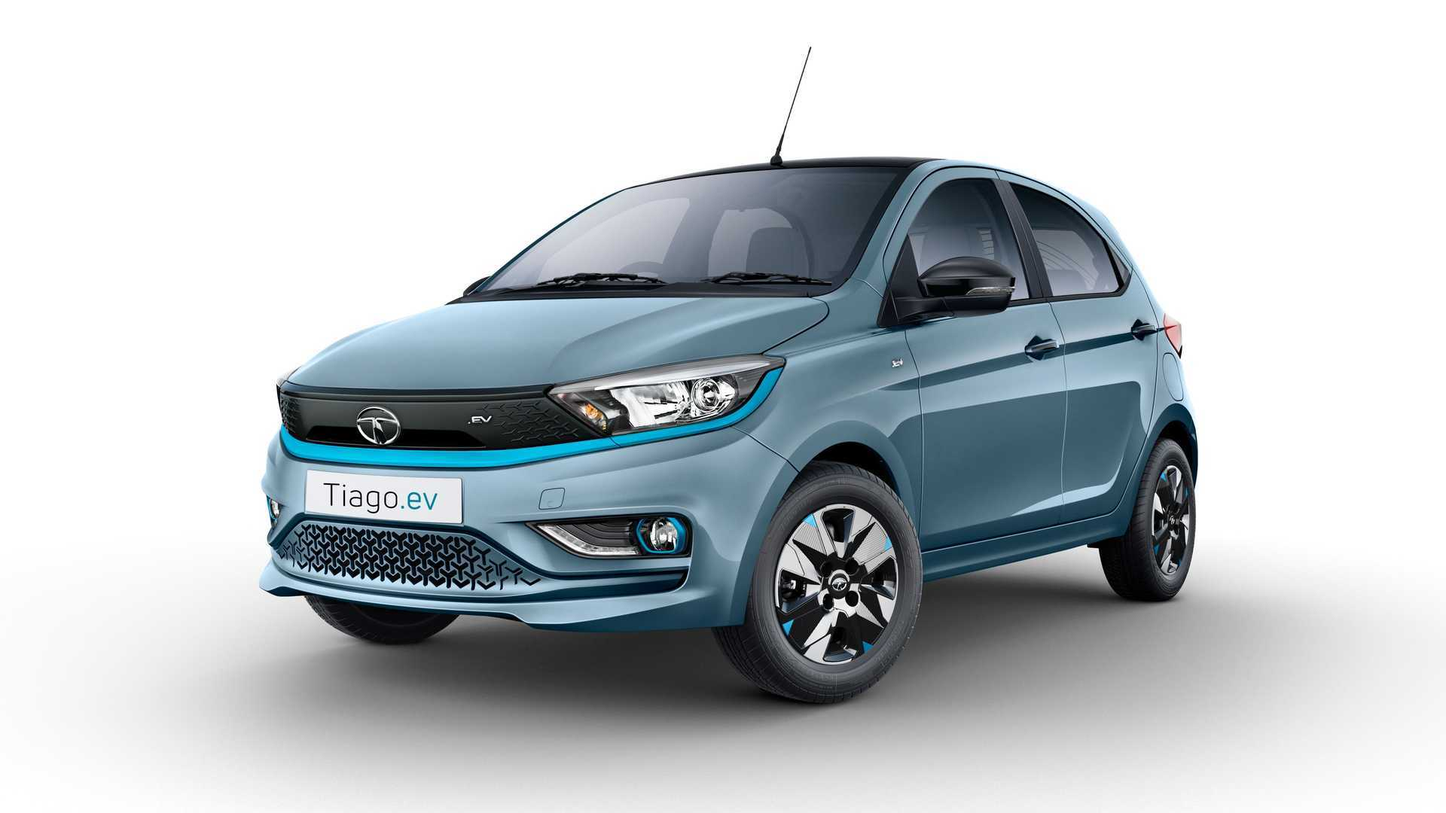Imprimante: (302, 245, 607, 354)
